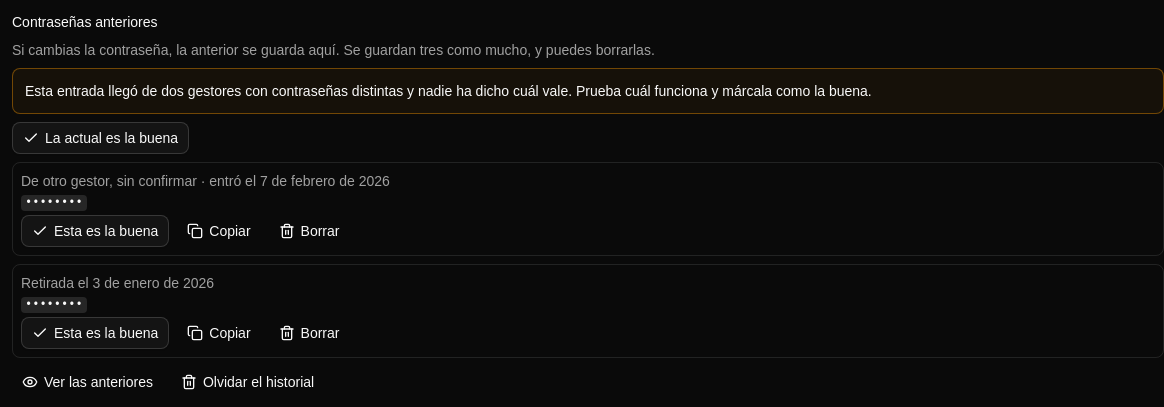
forgetting › lets somebody change their mind about forgetting one
What coordinates should you click on to do the following:
click the button with aria-label "Borrar la contraseña retirada"
I would click on:
 (309, 333)
Its box is [268,317,349,349].
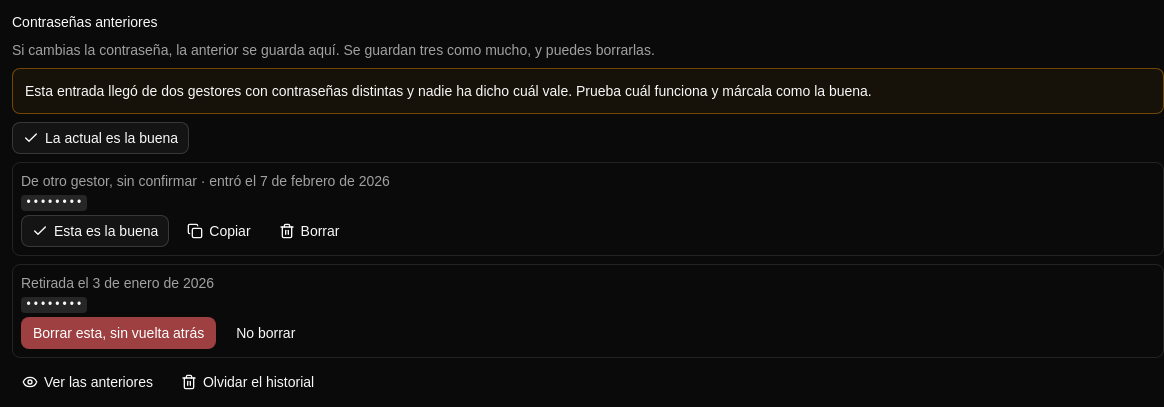
What coordinates should you click on to do the following:
click the button "No borrar"
I would click on:
 (266, 333)
Its box is [224,317,307,349].
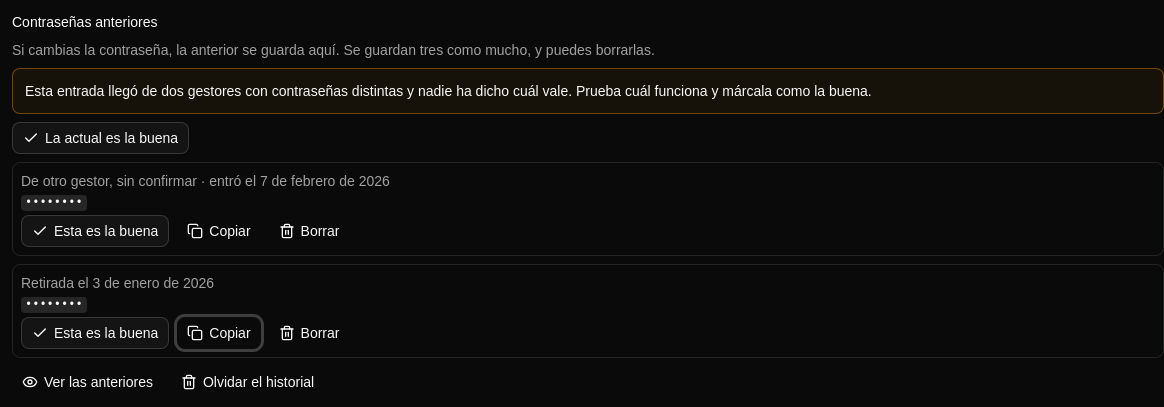
Now the button "Borrar esta, sin vuelta atrás" is gone
